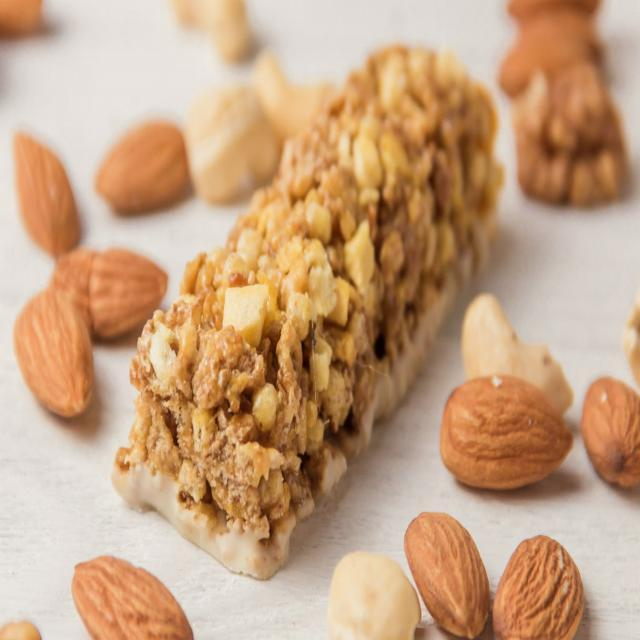Frutta secca: (441, 378, 573, 494), (323, 548, 421, 640), (580, 375, 640, 489)
